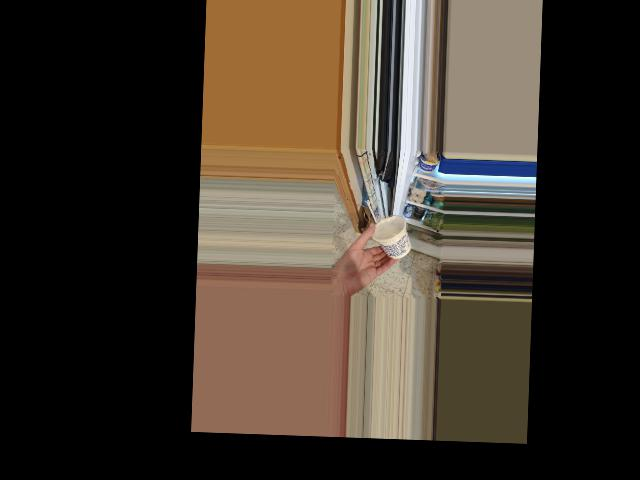cotage: (375, 215, 409, 258)
